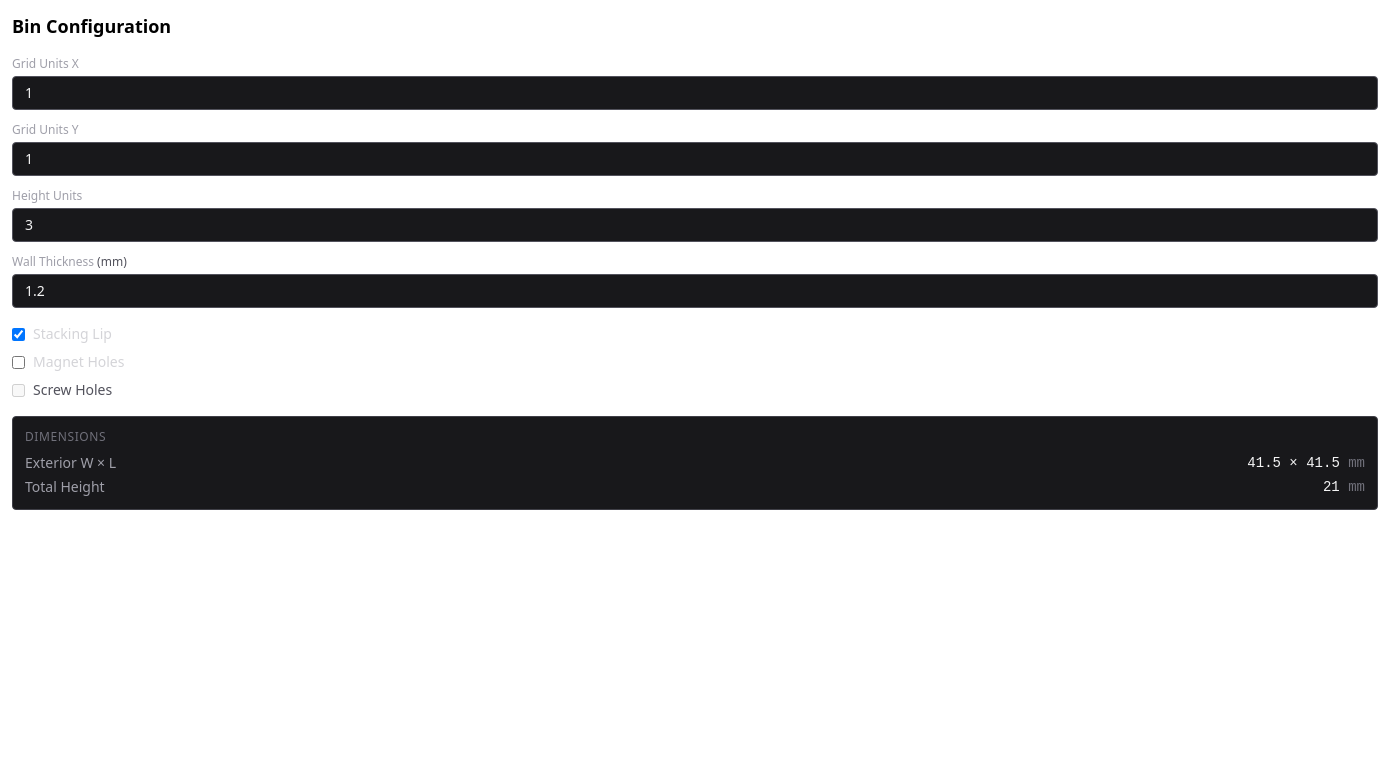
Test: BinConfigPanel — interactions › shows validation error for gridUnitsX of 0
The width and height of the screenshot is (1390, 780).
Replace the text in the number field labelled "Grid Units X" with "0" at (695, 93), box [12,76,1378,110]
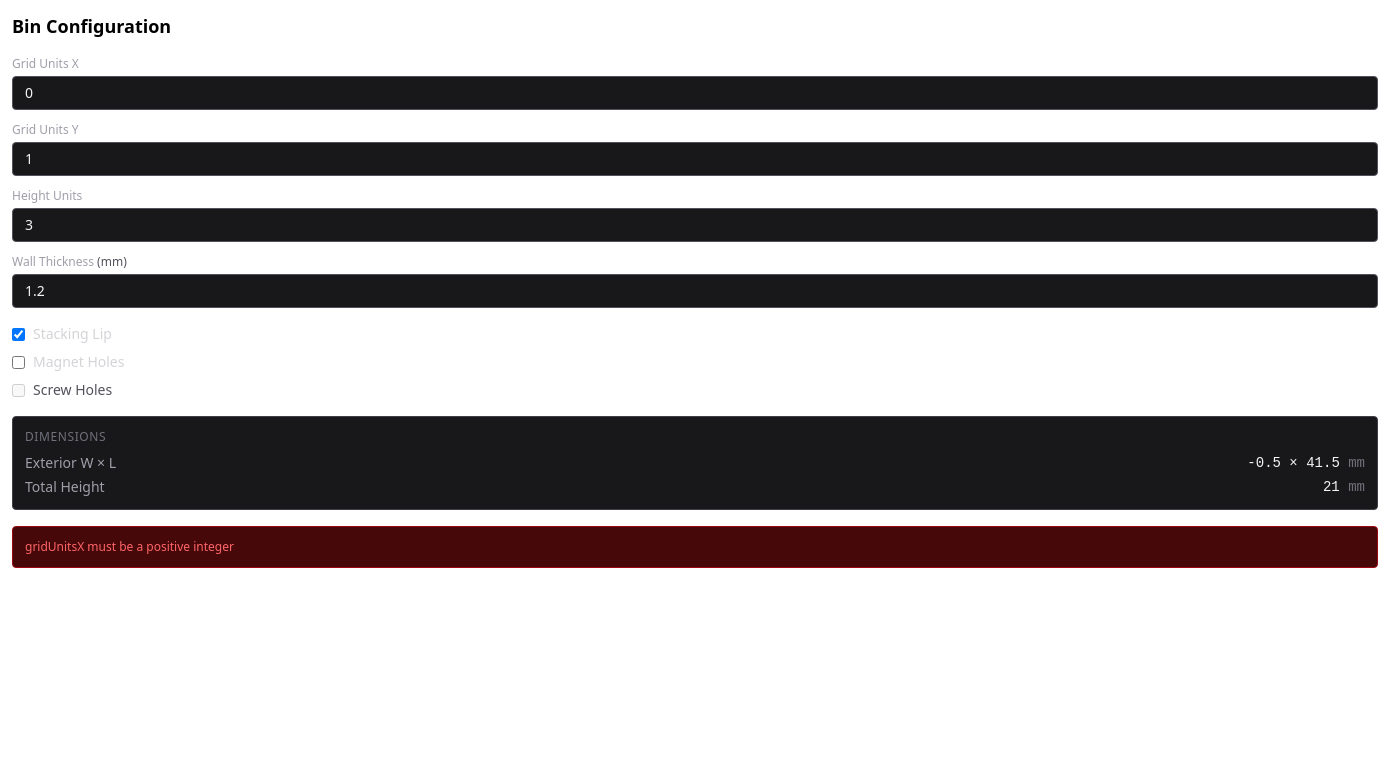
Expected: the text "gridUnitsX must be a positive integer" is shown, [25,538,234,555]
